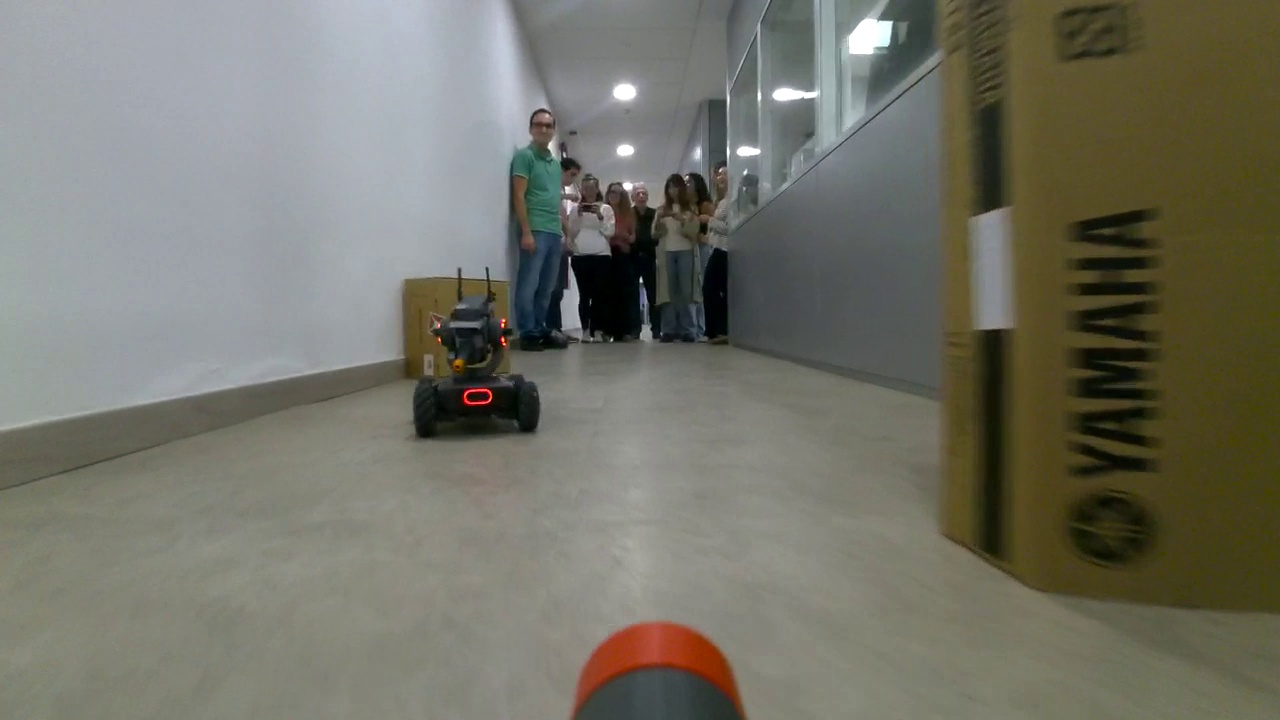robot: (410, 298, 542, 443)
